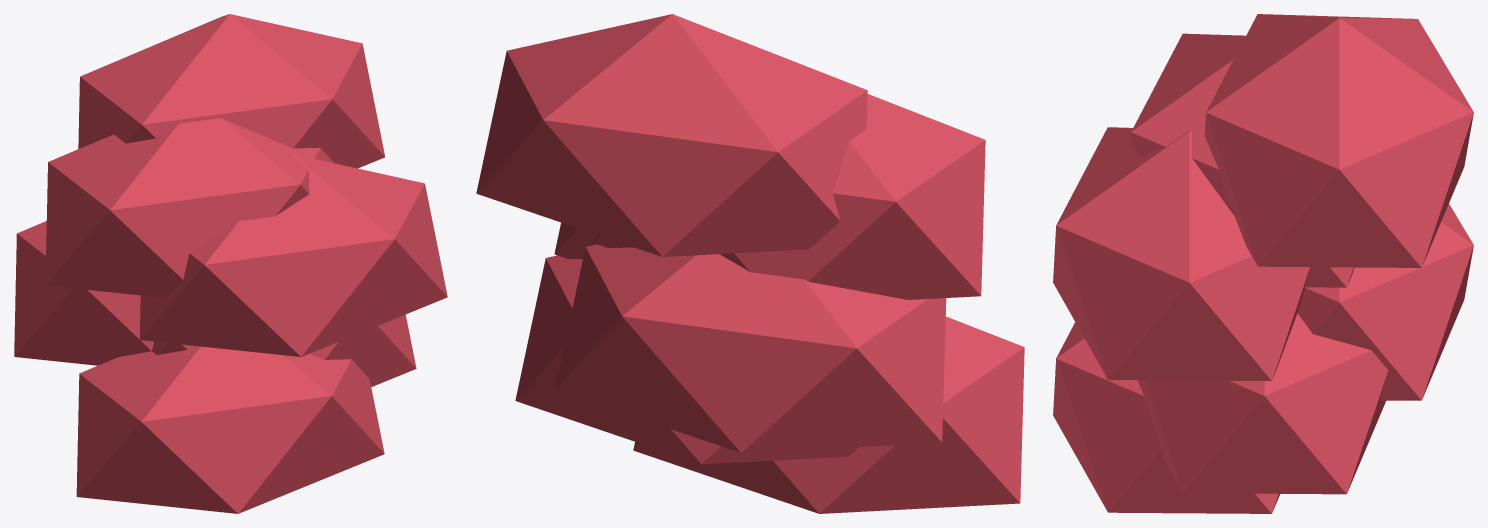
The model's file is item_069_apple_l.glb.
3 renders of one model, left to right at view 1: azimuth 30°, elevation 25°; view 2: azimuth 150°, elevation 25°; view 3: azimuth 270°, elevation 25°, orthographic. The views are drawn at different scales.
Visible parts, largest first — view 1: item_069_apple_l; view 2: item_069_apple_l; view 3: item_069_apple_l.
Boxes of the visible parts, bbox=[...] form: item_069_apple_l: bbox=[14, 14, 447, 513]; item_069_apple_l: bbox=[476, 14, 1024, 513]; item_069_apple_l: bbox=[1053, 14, 1473, 513].
Bounding box in the file's own units: 0.3865 × 0.4484 × 0.3371.
